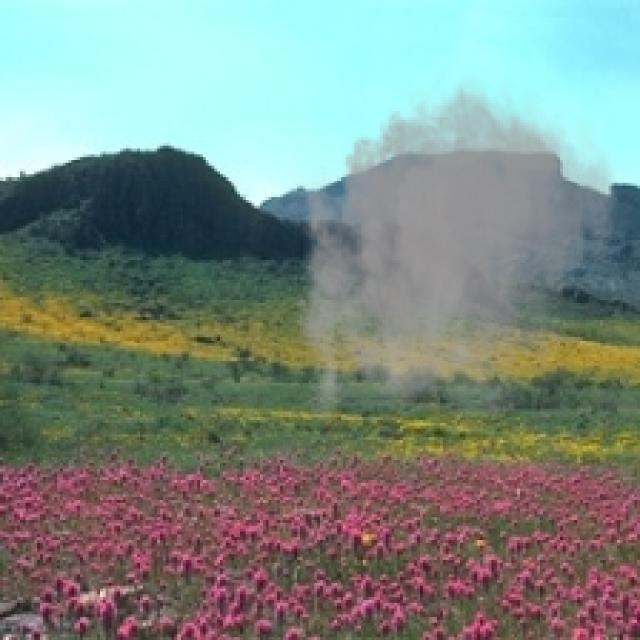Smoke: (280, 66, 629, 437)
